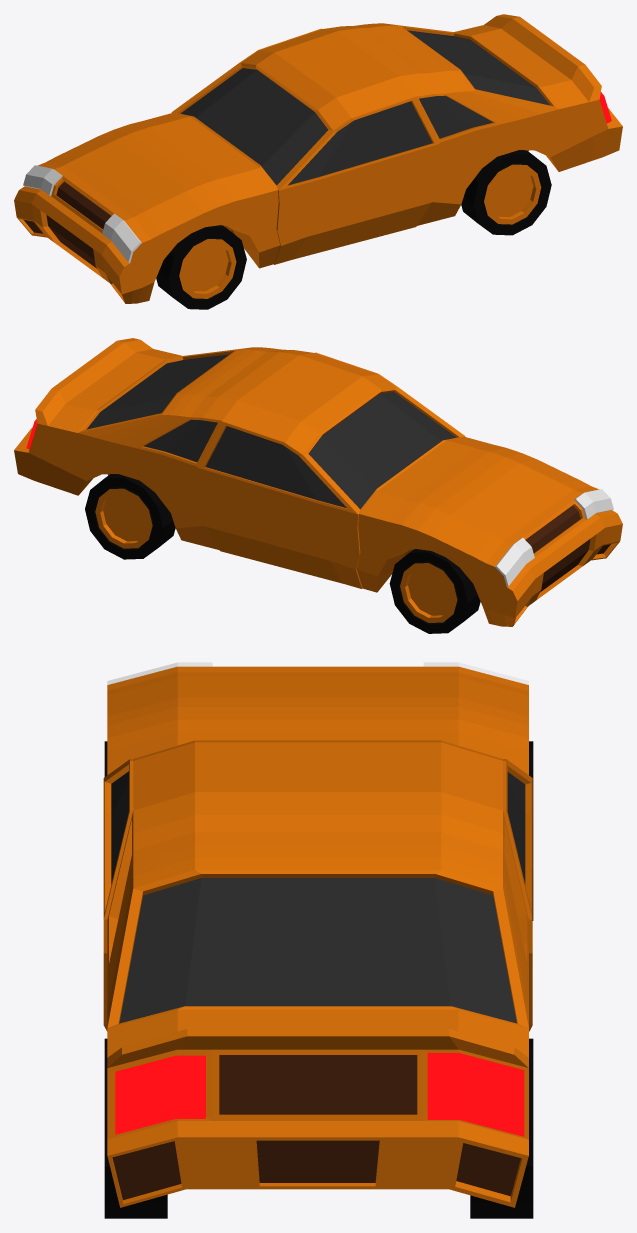
Rendered from car1.fbx.
3 renders of one model, top to bottom at view 1: azimuth 30°, elevation 25°; view 2: azimuth 150°, elevation 25°; view 3: azimuth 270°, elevation 25°, orthographic. The views are drawn at different scales.
Visible parts, largest first — view 1: Plane, Cylinder.001, Cylinder; view 2: Plane, Cylinder.002, Cylinder.003; view 3: Plane, Cylinder.002, Cylinder.001.
Boxes of the visible parts, left/top/right/bottom form: Plane: left=14, top=14, right=622, bottom=303; Cylinder.001: left=461, top=150, right=551, bottom=235; Cylinder: left=156, top=225, right=246, bottom=309; Plane: left=14, top=338, right=622, bottom=626; Cylinder.002: left=85, top=474, right=175, bottom=559; Cylinder.003: left=389, top=549, right=480, bottom=633; Plane: left=103, top=662, right=532, bottom=1207; Cylinder.002: left=470, top=1038, right=533, bottom=1218; Cylinder.001: left=104, top=1038, right=167, bottom=1218.
Size of the model in its own units: 331 by 103 by 122.
